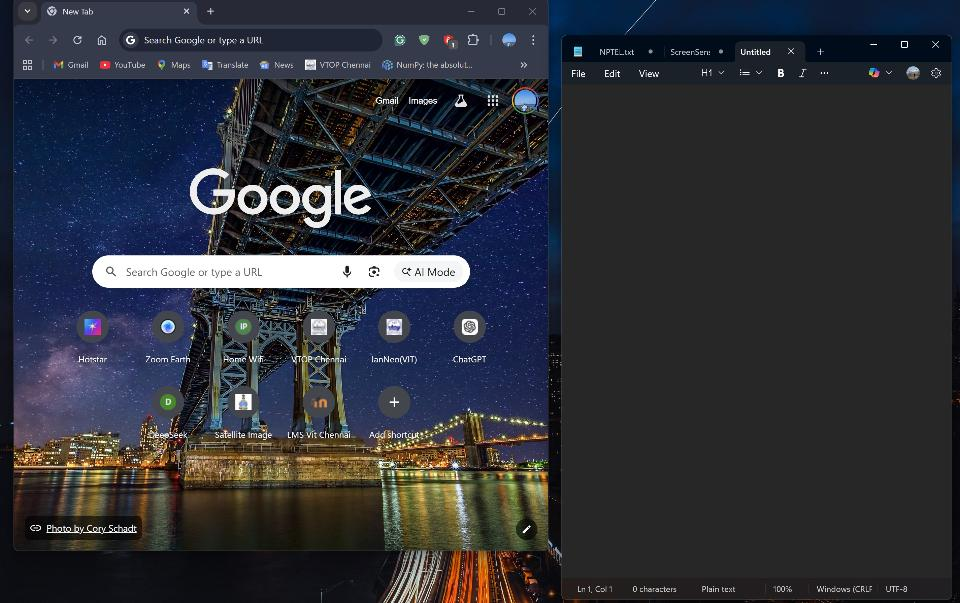close_button: (523, 0, 543, 26), (924, 36, 945, 59)
maximize_button: (894, 36, 917, 63), (491, 0, 513, 24)
minimize_button: (858, 36, 886, 61), (460, 0, 481, 25)
